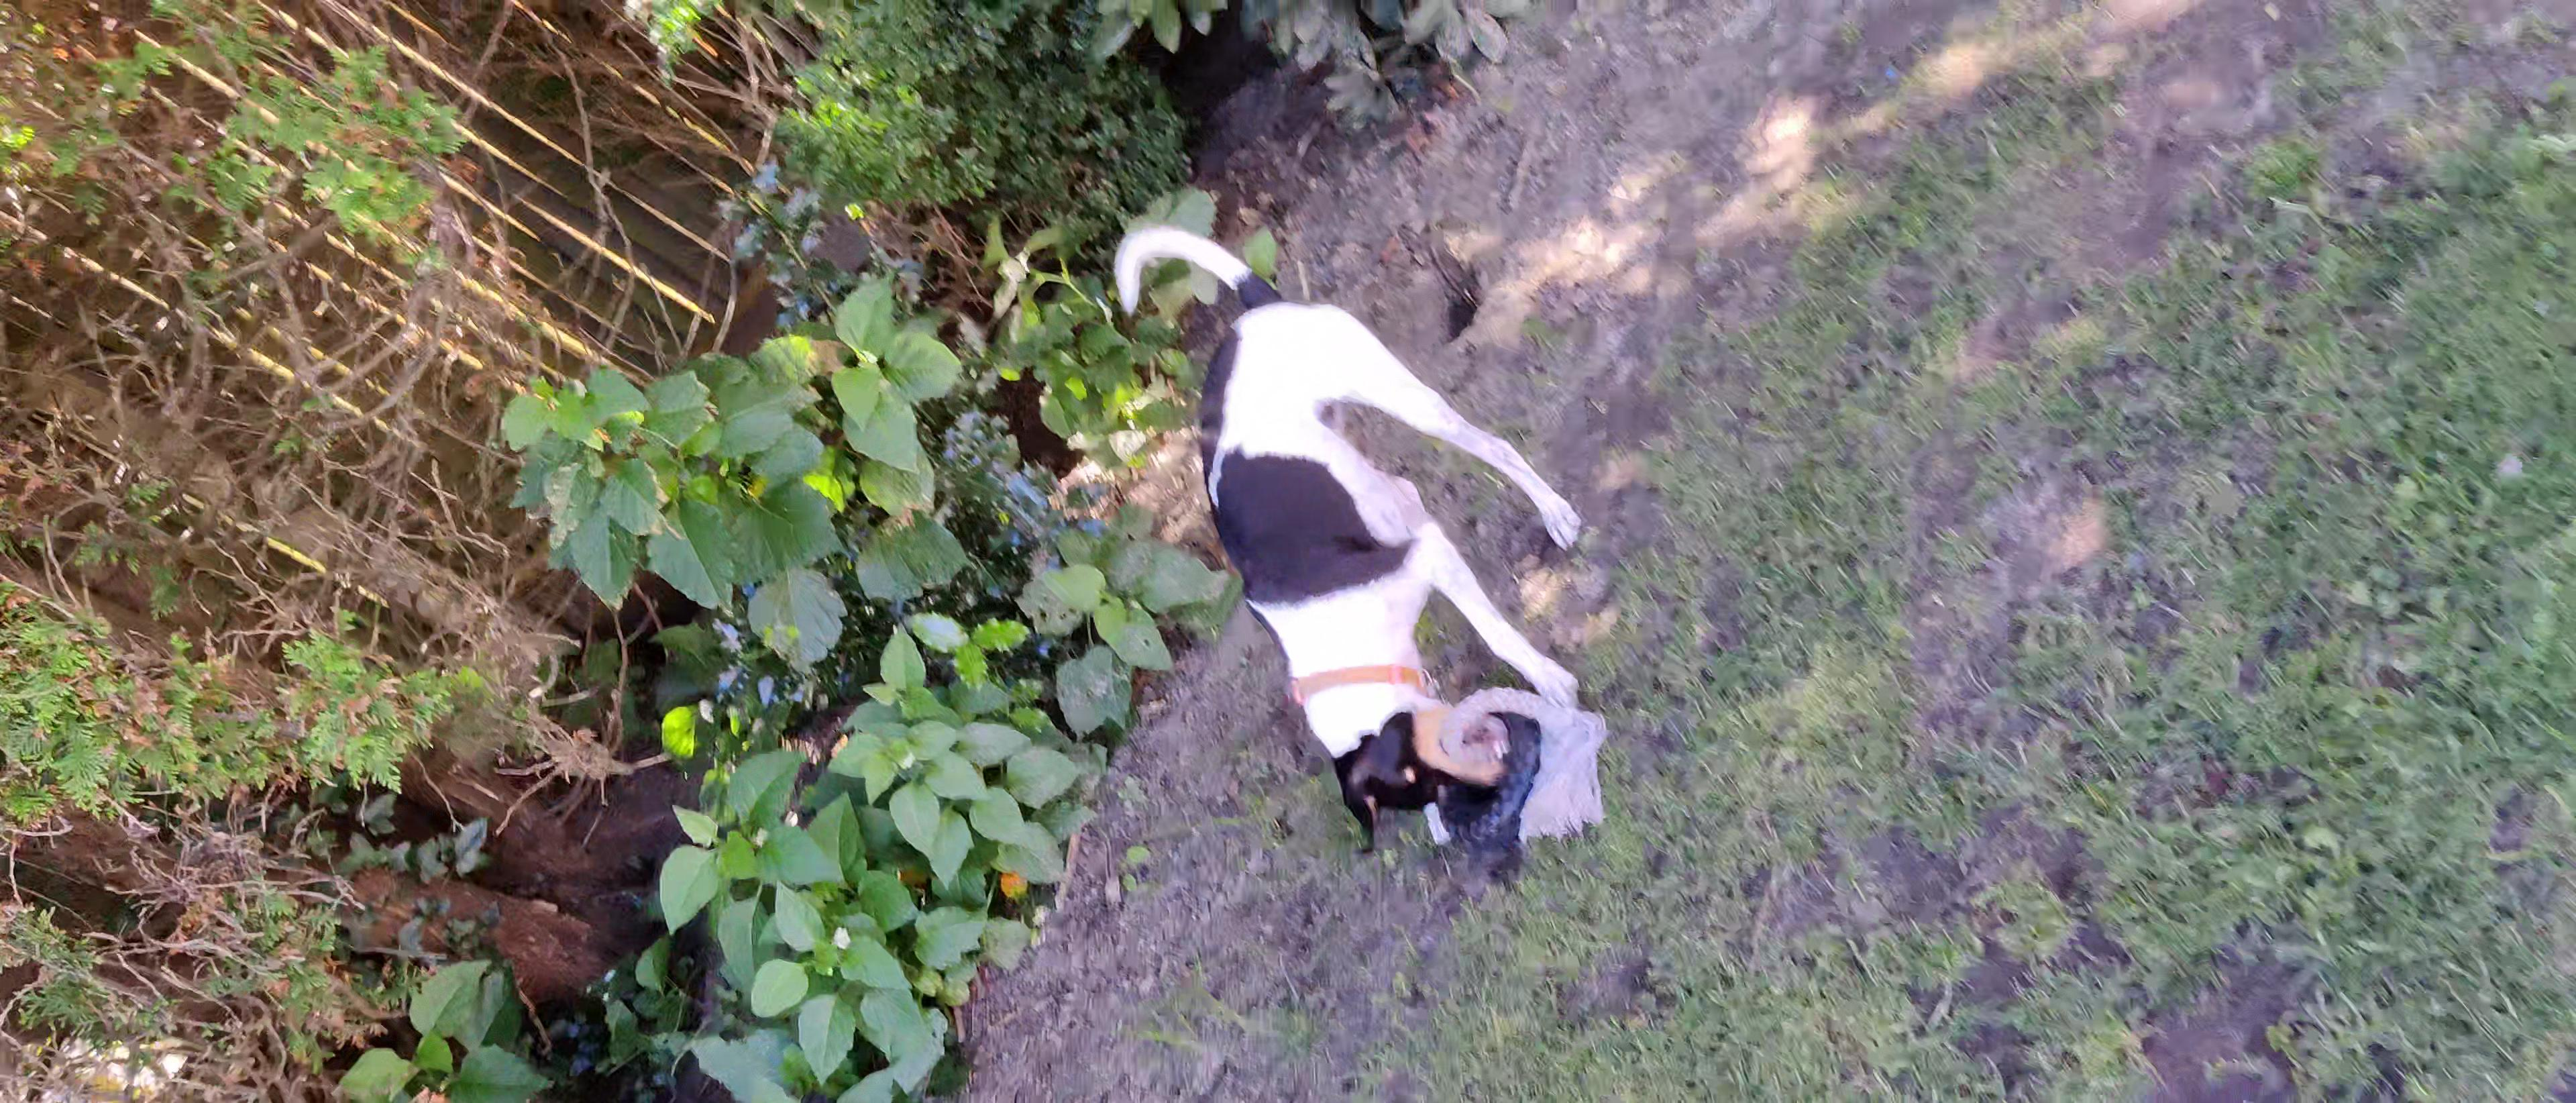Dog: (1083, 197, 1607, 861)
